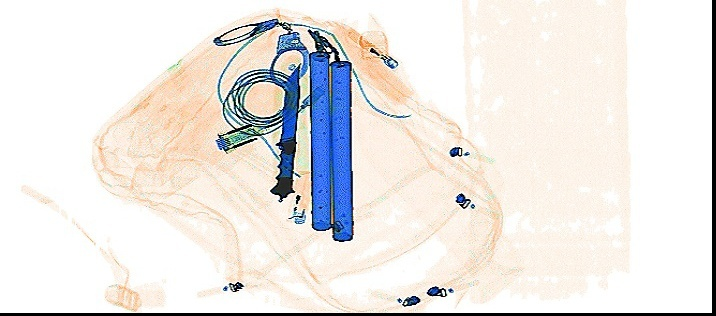handcuffs: (208, 15, 310, 86)
knife: (268, 62, 305, 200)
lighter: (338, 23, 397, 69), (284, 169, 319, 222)
